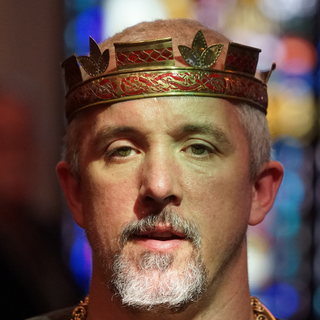eye: (101, 139, 146, 164), (179, 138, 224, 163)
